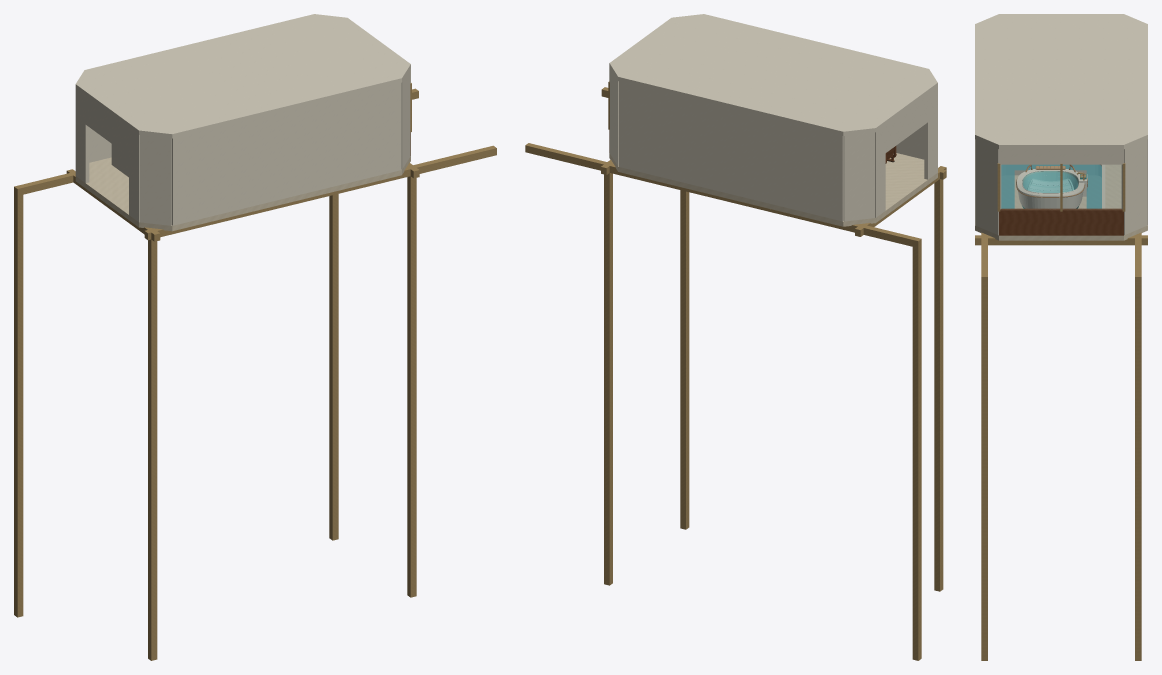
The model's file is D04_PORT_CENTRAL_HOME_917_r001.glb.
3 views of the same model, side by side, from view 1: azimuth 30°, elevation 25°; view 2: azimuth 150°, elevation 25°; view 3: azimuth 270°, elevation 25° (orthographic). The views are drawn at different scales.
Parts seen in each view (by area): view 1: PC917_D04H916_Roof, PC917_D04H916_Shell_3, PC917_D04H916_Pier_13, PC917_D04H916_Pier_14, PC917_D04H916_Pier_16, PC917_D04H916_Pier_15, PC917_D04H916_Floor, PC917_D04H916_Shell_2, PC917_D04H916_FloorCross_1, PC917_D04H916_EntryHeader, PC917_D04H916_EntryWall_0, PC917_D04H916_EntryWall_1 (+2 smaller); view 2: PC917_D04H916_Roof, PC917_D04H916_Shell_7, PC917_D04H916_Pier_13, PC917_D04H916_Pier_14, PC917_D04H916_Pier_15, PC917_D04H916_Floor, PC917_D04H916_Pier_16, PC917_D04H916_Shell_0, PC917_D04H916_FloorCross_0, PC917_D04H916_EntryHeader, PC917_D04H916_EntryWall_1, PC917_D04H916_EntryWall_0 (+2 smaller); view 3: PC917_D04H916_Roof, PC917_D04H916_GardenGlass, PC917_D04H916_GardenDado, PC917_D04H916_Pier_15, PC917_D04H916_Pier_16, PC917_D04H916_Shell_4, PC917_D04H916_Shell_6, PC917_D04H916_Floor, PC917_D04H916_GardenHead, PC917_ReservedAquaticRest__Hollow continuous basin shell wit, PC917_D04H916_Water_0, PC917_D04H916_Long_-29.35 (+5 smaller).
Part boxes in pixels (x1,y1,x2,y2): PC917_D04H916_Roof: (75, 14, 410, 138); PC917_D04H916_Shell_3: (172, 83, 401, 225); PC917_D04H916_Pier_13: (14, 185, 23, 617); PC917_D04H916_Pier_14: (148, 229, 157, 660); PC917_D04H916_Pier_16: (407, 167, 416, 597); PC917_D04H916_Pier_15: (329, 194, 338, 540); PC917_D04H916_Floor: (75, 156, 410, 231); PC917_D04H916_Shell_2: (139, 135, 171, 225); PC917_D04H916_FloorCross_1: (144, 145, 496, 240); PC917_D04H916_EntryHeader: (85, 96, 128, 155); PC917_D04H916_EntryWall_0: (75, 89, 89, 183); PC917_D04H916_EntryWall_1: (129, 128, 139, 221); PC917_D04H916_Roof: (609, 14, 937, 135); PC917_D04H916_Shell_7: (619, 81, 843, 221); PC917_D04H916_Pier_13: (912, 237, 921, 660); PC917_D04H916_Pier_14: (934, 170, 943, 591); PC917_D04H916_Pier_15: (604, 163, 612, 585); PC917_D04H916_Floor: (609, 153, 937, 226); PC917_D04H916_Pier_16: (680, 190, 689, 529); PC917_D04H916_Shell_0: (843, 132, 874, 221); PC917_D04H916_FloorCross_0: (525, 143, 921, 247); PC917_D04H916_EntryHeader: (885, 94, 927, 152); PC917_D04H916_EntryWall_1: (924, 87, 937, 179); PC917_D04H916_EntryWall_0: (875, 125, 885, 217); PC917_D04H916_Roof: (975, 14, 1147, 149); PC917_D04H916_GardenGlass: (1001, 165, 1121, 209); PC917_D04H916_GardenDado: (999, 208, 1123, 235); PC917_D04H916_Pier_15: (1135, 235, 1141, 660); PC917_D04H916_Pier_16: (981, 235, 987, 660); PC917_D04H916_Shell_4: (975, 139, 1001, 234); PC917_D04H916_Shell_6: (1121, 139, 1147, 234); PC917_D04H916_Floor: (975, 164, 1147, 240); PC917_D04H916_GardenHead: (999, 149, 1123, 164); PC917_ReservedAquaticRest__Hollow continuous basin shell wit: (1016, 169, 1084, 208); PC917_D04H916_Water_0: (1001, 164, 1101, 208); PC917_D04H916_Long_-29.35: (975, 235, 1147, 245).
Size of the model in its own units: 19.04 by 23.78 by 7.2.
40 materials, 21 textured.
